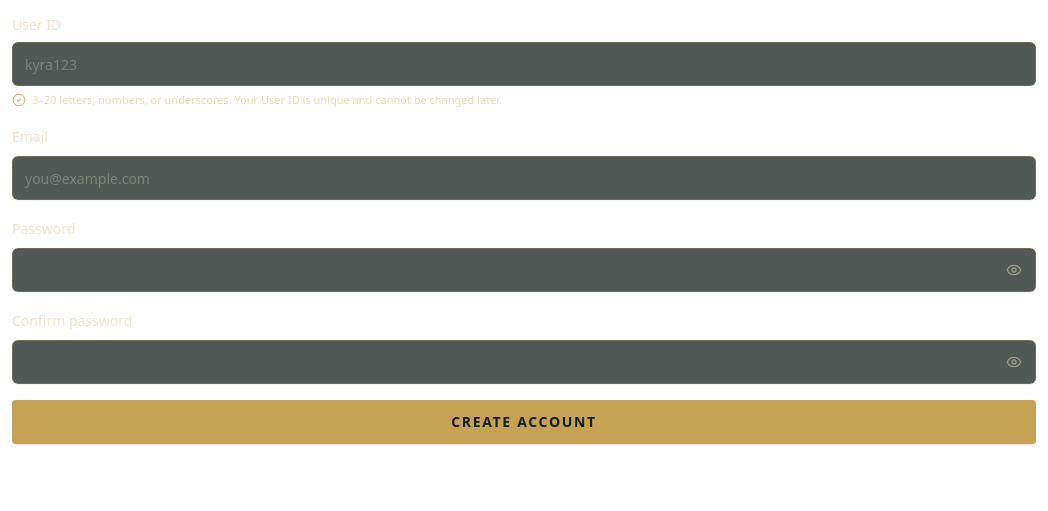
it: SignUpForm › preserves every form value after a duplicate email
In the field labelled "User ID": (524, 64) [12,42,1036,86], type "Admin_User"
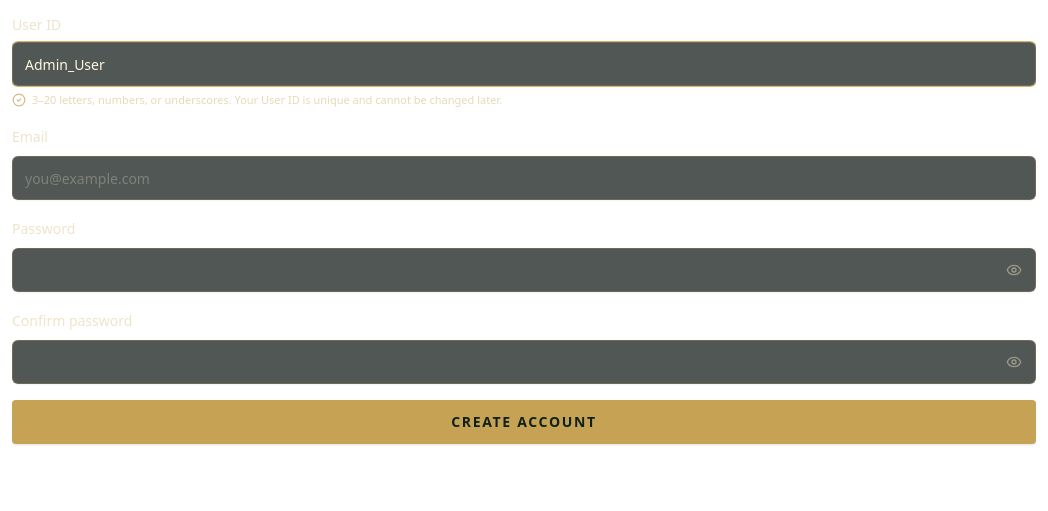
In the field labelled "Email": (524, 178) [12,156,1036,200], type "Player@Example.com"
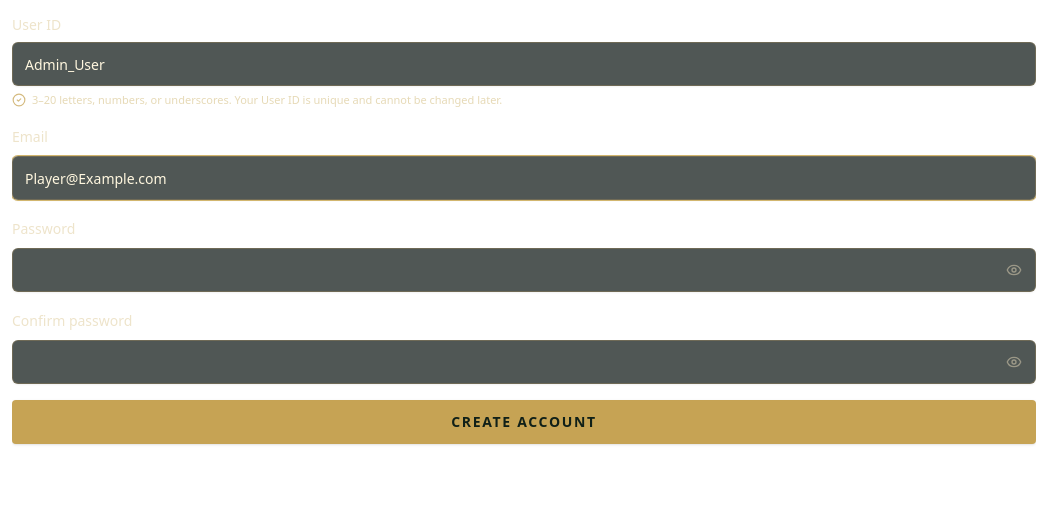
In the password field labelled "Password": (524, 270) [12,248,1036,292], type "password-123"
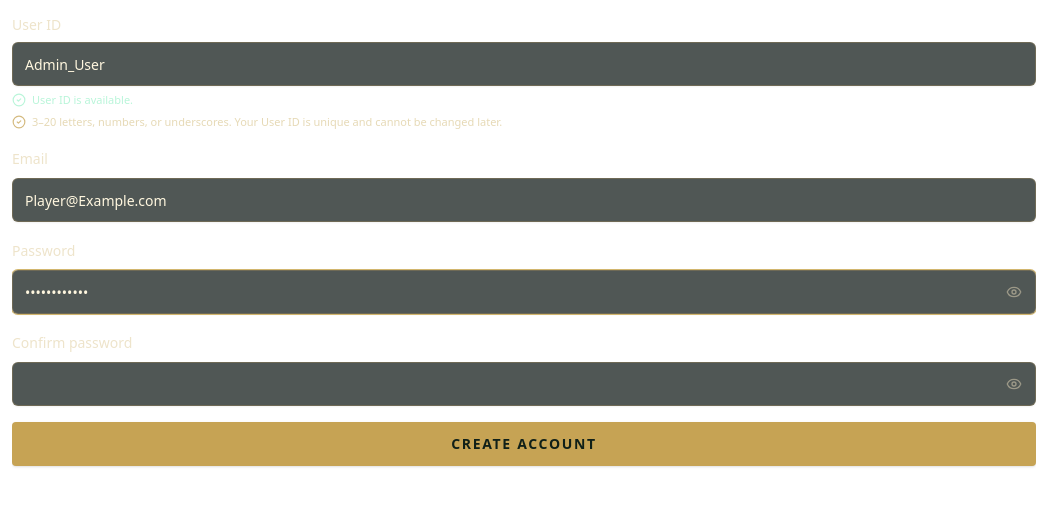
In the password field labelled "Confirm password": (524, 384) [12,362,1036,406], type "password-123"
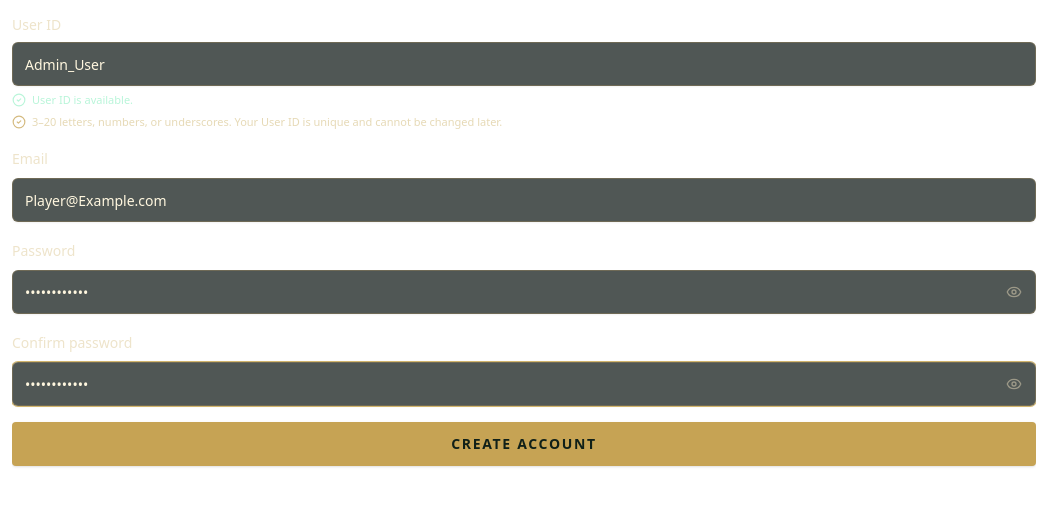
Click the button "CREATE ACCOUNT": click(524, 444) [12,422,1036,466]
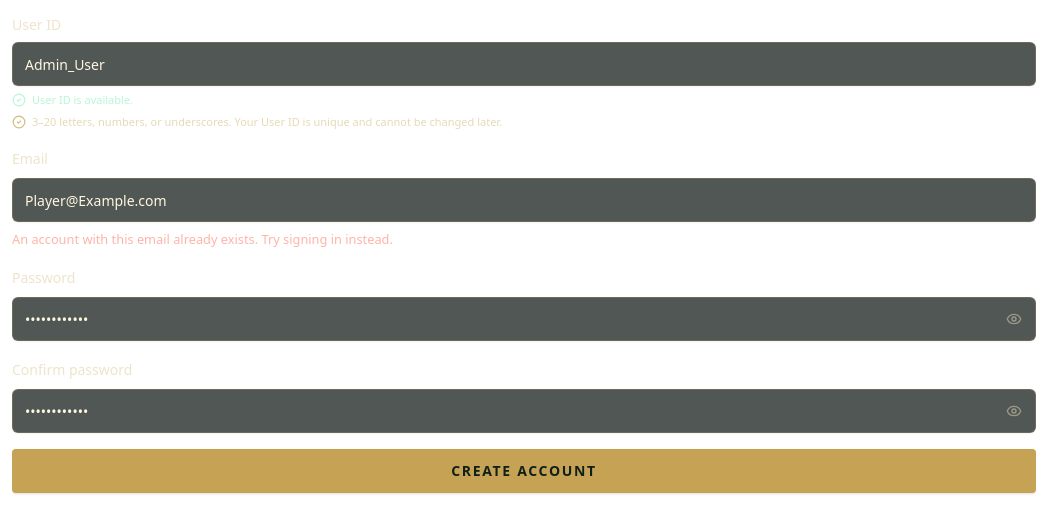
Expected: the text "An account with this email already exists. Try signing in instead." is shown, [12,230,393,248]
